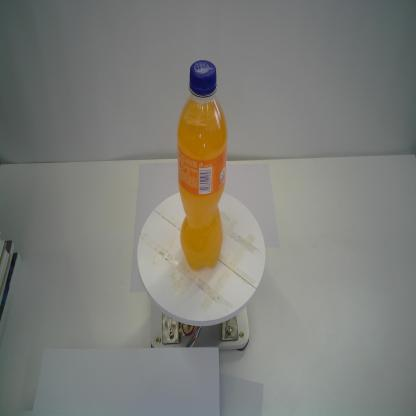Drink: (176, 59, 228, 276)
